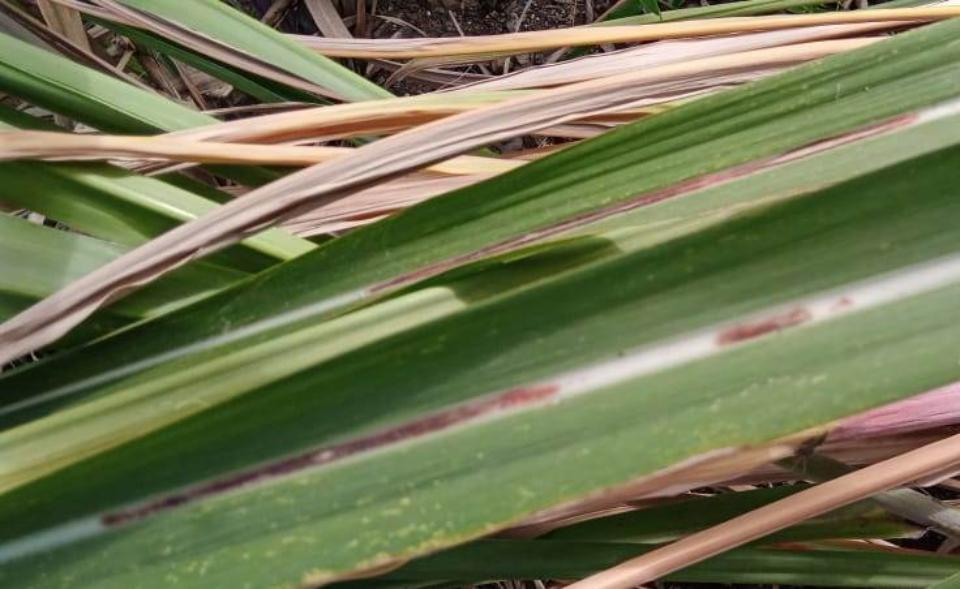RedRot: (100, 383, 567, 530), (714, 287, 860, 352)
